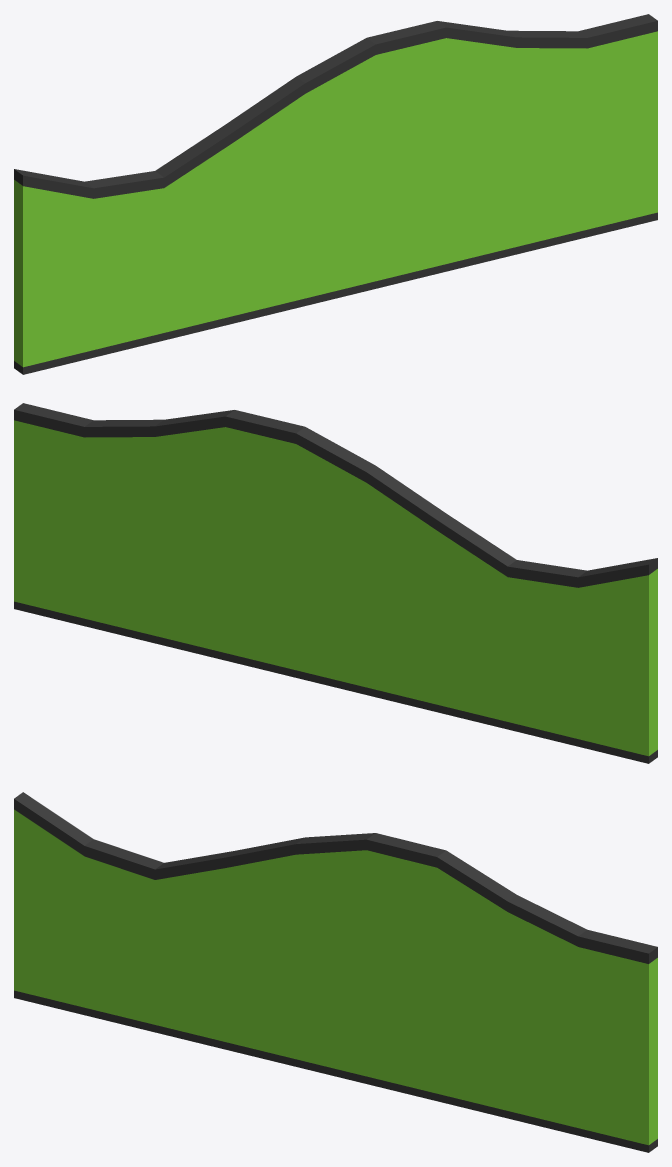
Rendered from hill4.fbx.
3 renders of one model, top to bottom at view 1: azimuth 30°, elevation 25°; view 2: azimuth 150°, elevation 25°; view 3: azimuth 330°, elevation 25°, orthographic.
Visible parts, largest first — view 1: Hill 4; view 2: Hill 4; view 3: Hill 4.
Part boxes in pixels (x1,y1,x2,y2): Hill 4: (14, 14, 657, 374); Hill 4: (14, 403, 657, 763); Hill 4: (14, 792, 657, 1152).
Bounding box in the file's own units: 800 × 20 × 294.
